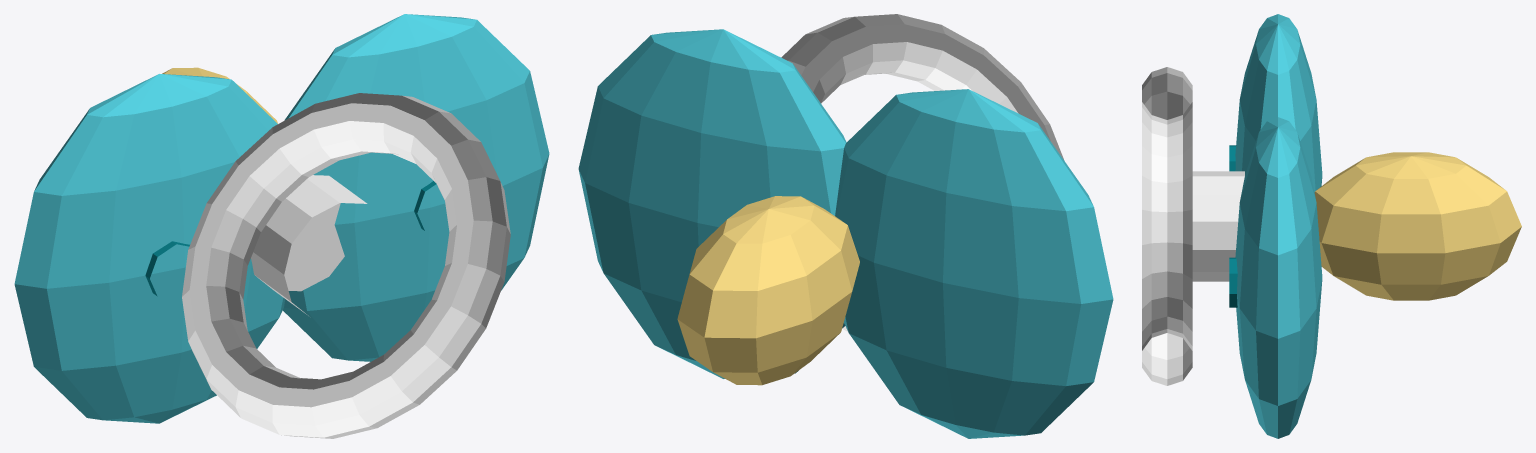
File: napp.glb
The picture shows the model from 3 angles, left to right: view 1: azimuth 30°, elevation 25°; view 2: azimuth 150°, elevation 25°; view 3: azimuth 270°, elevation 25°; orthographic projection. The views are drawn at different scales.
Parts seen in each view (by area): view 1: napp; view 2: napp; view 3: napp.
Boxes of the visible parts, x1,y1,x2,y2 form: napp: [14, 14, 549, 438]; napp: [578, 14, 1113, 438]; napp: [1142, 14, 1521, 438].
Size of the model in its own units: 0.24 by 0.15 by 0.1714.
